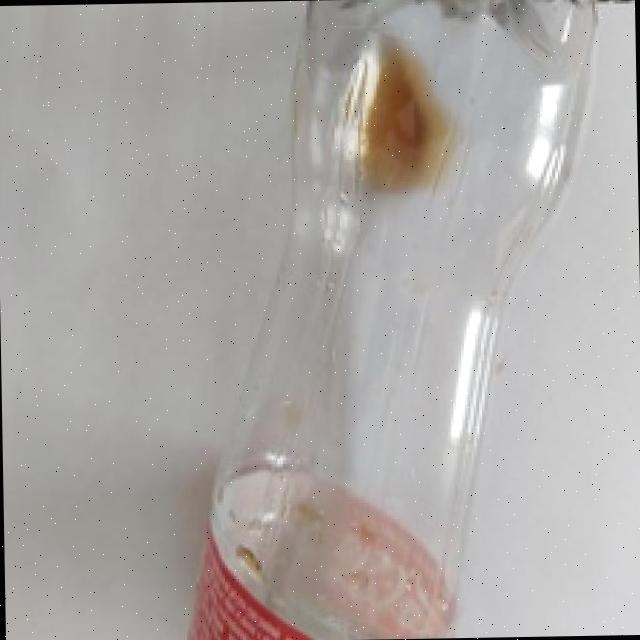bottle: (185, 0, 623, 640)
